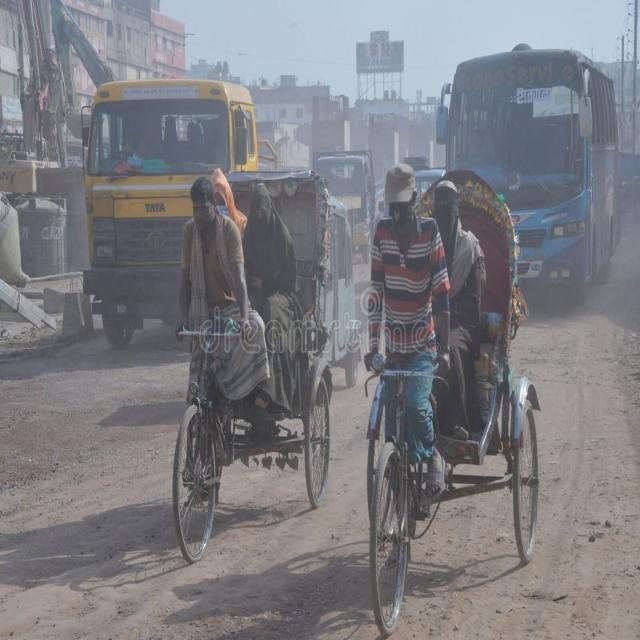Bus: (419, 31, 640, 305)
Rickshaw: (355, 158, 554, 640), (157, 144, 347, 583)
Truck: (74, 67, 321, 357)
